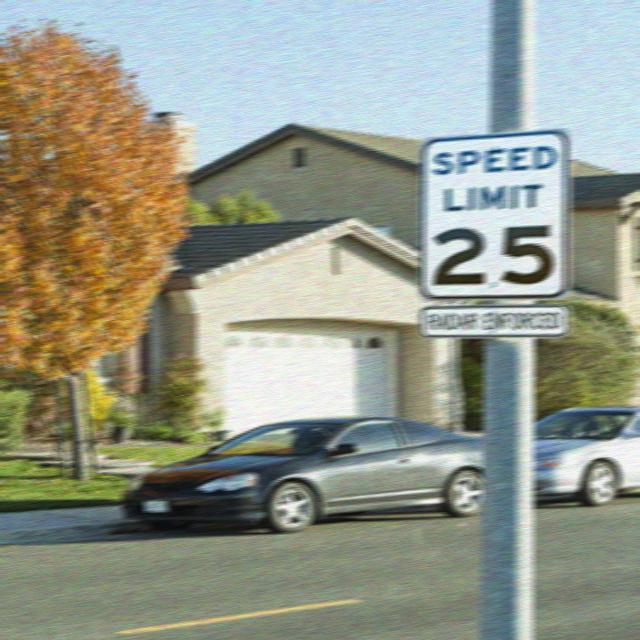speedLimit25: (416, 130, 570, 300)
